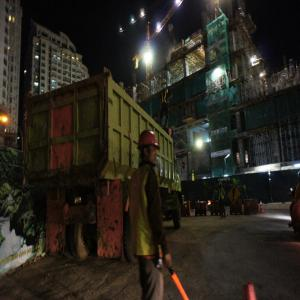red: (139, 129, 160, 166), (220, 183, 223, 188)
yellow: (163, 80, 168, 90)
